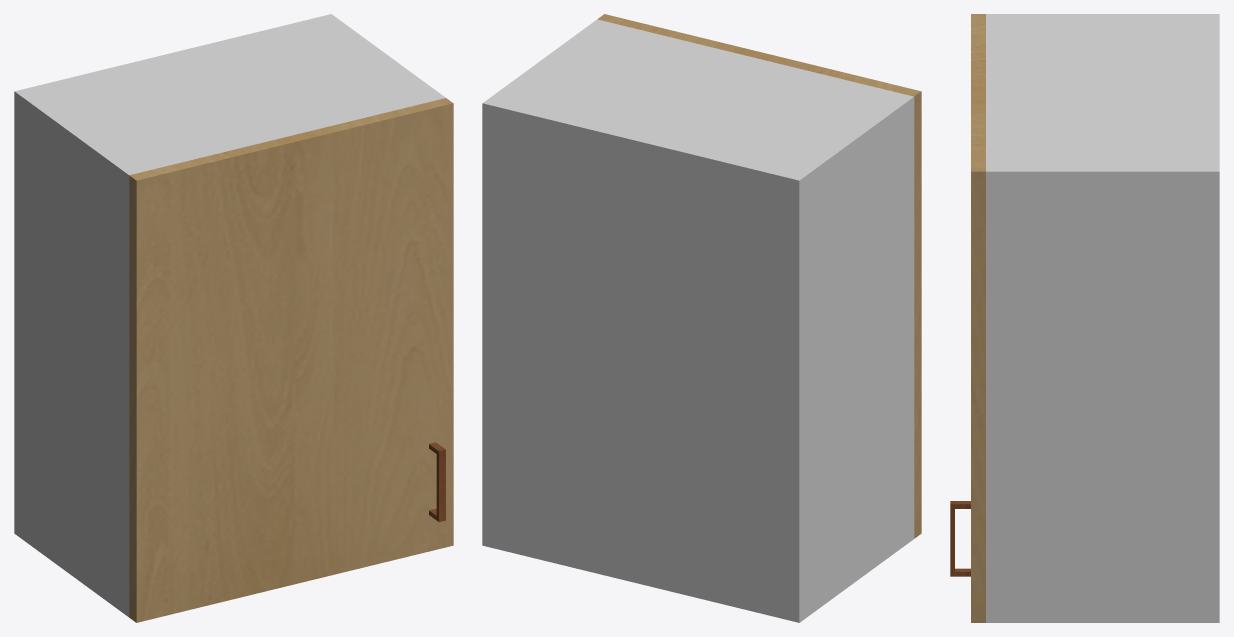
Rendered from wall-450.glb.
3 renders of one model, left to right at view 1: azimuth 30°, elevation 25°; view 2: azimuth 150°, elevation 25°; view 3: azimuth 270°, elevation 25°, orthographic. The views are drawn at different scales.
Parts seen in each view (by area): view 1: Mesh_1_group, Mesh_0_group, Mesh_2_group; view 2: Mesh_0_group, Mesh_1_group; view 3: Mesh_0_group, Mesh_1_group, Mesh_2_group.
Boxes of the visible parts, bbox=[...] form: Mesh_1_group: bbox=[129, 98, 453, 622]; Mesh_0_group: bbox=[14, 14, 445, 617]; Mesh_2_group: bbox=[429, 442, 445, 521]; Mesh_0_group: bbox=[482, 19, 914, 622]; Mesh_1_group: bbox=[597, 14, 921, 538]; Mesh_0_group: bbox=[986, 14, 1219, 622]; Mesh_1_group: bbox=[971, 14, 985, 622]; Mesh_2_group: bbox=[950, 501, 970, 576].
Size of the model in its own units: 0.45 by 0.6 by 0.325.
Materials: 3 (2 with a texture image).
